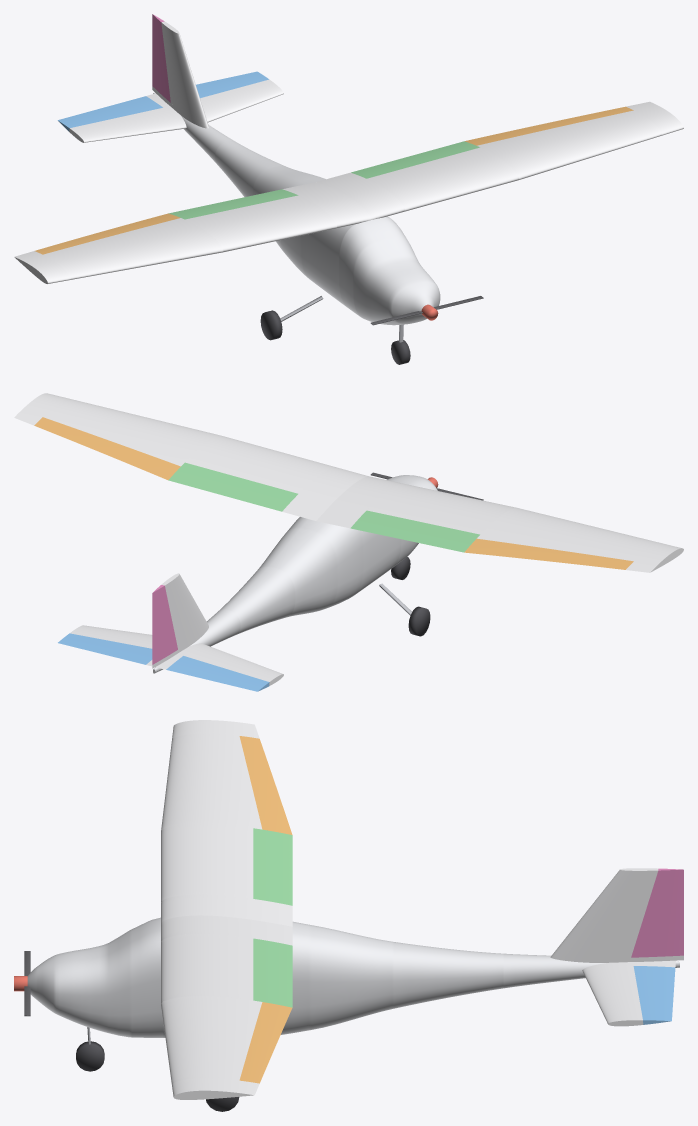
The picture shows the model from 3 angles, top to bottom: view 1: azimuth 30°, elevation 25°; view 2: azimuth 150°, elevation 25°; view 3: azimuth 270°, elevation 25°; orthographic projection. The views are drawn at different scales.
Parts seen in each view (by area): view 1: wing, fuselage, htail, fin, fsim:flaps (×2), fsim:elevator (×2), fsim:aileron (×2), fsim:rudder, Right Main Gear, O-320 propeller; view 2: wing, fuselage, fsim:flaps (×2), fsim:aileron (×2), fsim:elevator (×2), htail, fin, fsim:rudder, Right Main Gear; view 3: wing, fuselage, fin, fsim:flaps (×2), fsim:aileron (×2), fsim:rudder, htail, fsim:elevator, Nose Gear.
Part boxes in pixels (left/top/right/bottom): wing: left=14, top=101, right=683, bottom=283; fuselage: left=153, top=92, right=440, bottom=325; htail: left=69, top=79, right=283, bottom=142; fin: left=152, top=21, right=208, bottom=128; fsim:flaps (×2): left=168, top=141, right=479, bottom=219; fsim:elevator (×2): left=57, top=71, right=268, bottom=131; fsim:aileron (×2): left=35, top=106, right=633, bottom=254; fsim:rudder: left=152, top=14, right=170, bottom=102; Right Main Gear: left=260, top=296, right=323, bottom=340; O-320 propeller: left=370, top=296, right=483, bottom=325; wing: left=14, top=393, right=683, bottom=572; fuselage: left=153, top=475, right=437, bottom=673; fsim:flaps (×2): left=168, top=462, right=479, bottom=552; fsim:aileron (×2): left=34, top=417, right=633, bottom=569; fsim:elevator (×2): left=58, top=633, right=269, bottom=691; htail: left=70, top=625, right=283, bottom=685; fin: left=152, top=573, right=208, bottom=668; fsim:rudder: left=152, top=585, right=177, bottom=664; Right Main Gear: left=379, top=583, right=430, bottom=636; wing: left=161, top=720, right=292, bottom=1099; fuselage: left=27, top=917, right=679, bottom=1037; fin: left=550, top=868, right=683, bottom=962; fsim:flaps (×2): left=253, top=828, right=292, bottom=1007; fsim:aileron (×2): left=239, top=736, right=292, bottom=1083; fsim:rudder: left=631, top=868, right=683, bottom=957; htail: left=582, top=960, right=675, bottom=1026; fsim:elevator: left=633, top=966, right=675, bottom=1024; Nose Gear: left=76, top=1027, right=104, bottom=1071.
Size of the model in its own units: 10.97 by 2.76 by 8.38.
